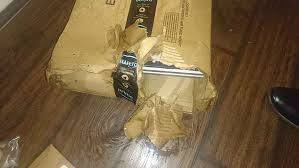damaged package: (138, 55, 211, 109)
